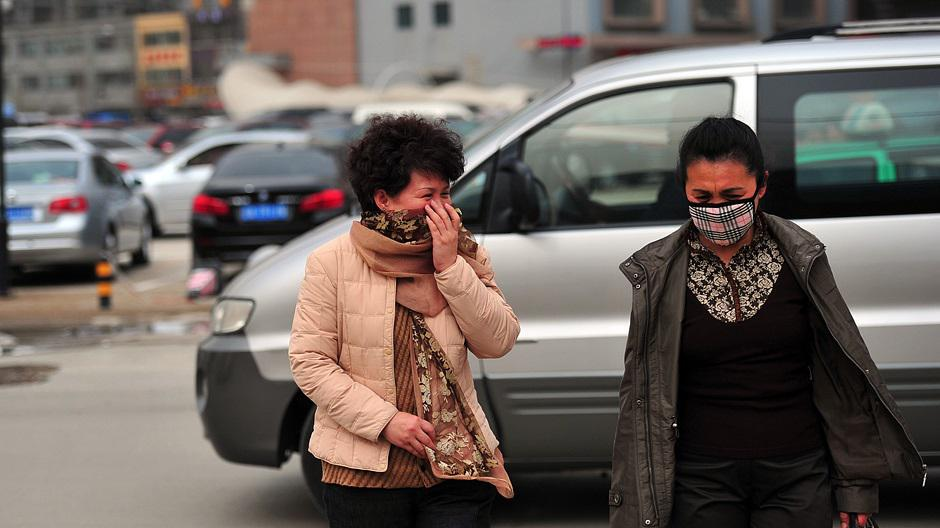OK: (689, 181, 756, 246)
WRONG: (384, 172, 452, 241)
